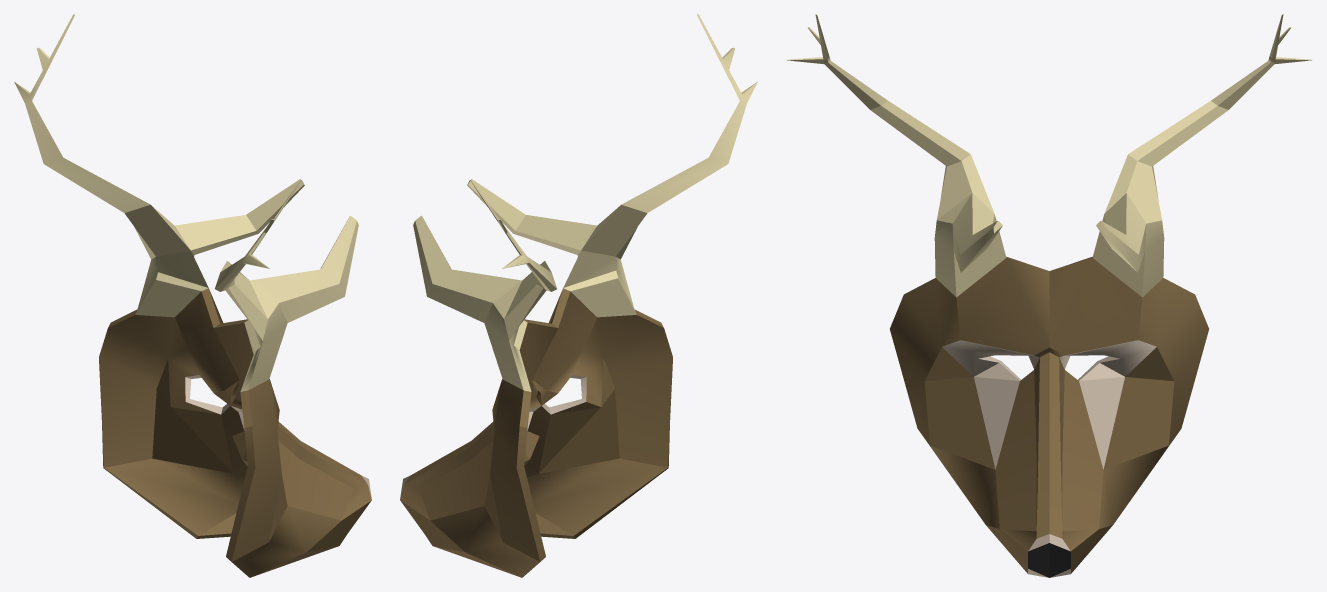
The model's file is mask_cerf.fbx.
3 renders of one model, left to right at view 1: azimuth 30°, elevation 25°; view 2: azimuth 150°, elevation 25°; view 3: azimuth 270°, elevation 25°, orthographic. The views are drawn at different scales.
Parts seen in each view (by area): view 1: mask_cerf; view 2: mask_cerf; view 3: mask_cerf.
Part boxes in pixels (left/top/right/bottom): mask_cerf: left=14, top=14, right=371, bottom=577; mask_cerf: left=400, top=14, right=757, bottom=577; mask_cerf: left=786, top=14, right=1312, bottom=577.
Size of the model in its own units: 0.6787 by 1.29 by 1.25.
